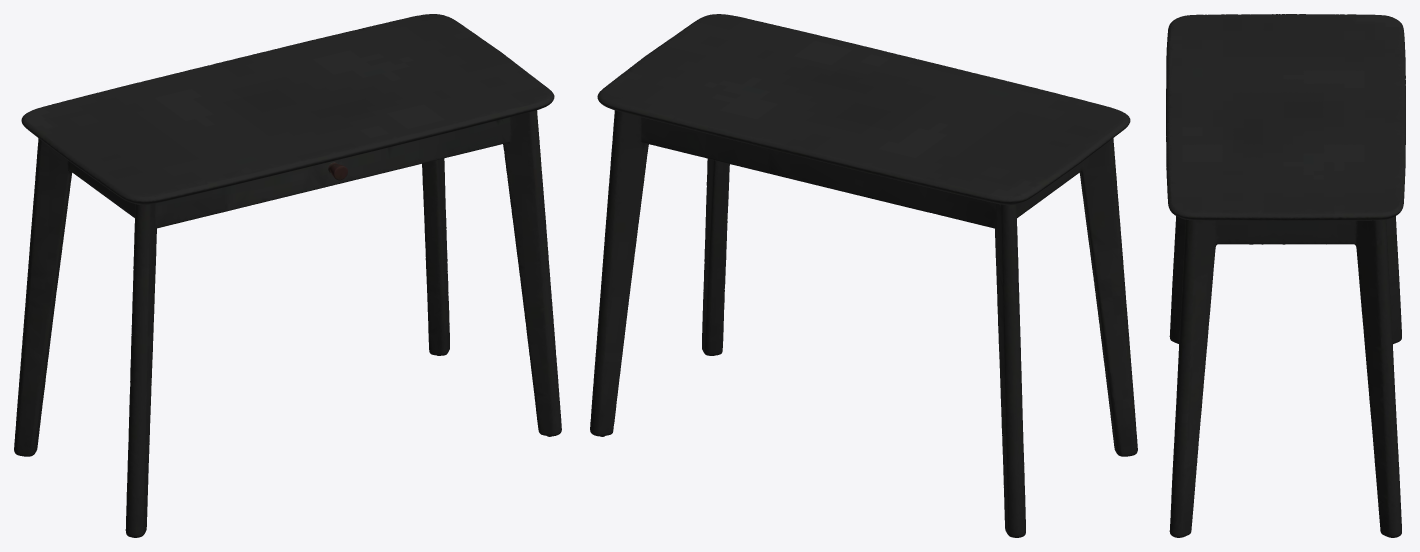
The model's file is hugge-100489-trellis2-q8-pbr.glb.
3 views of the same model, side by side, from view 1: azimuth 30°, elevation 25°; view 2: azimuth 150°, elevation 25°; view 3: azimuth 270°, elevation 25° (orthographic). The views are drawn at different scales.
Visible parts, largest first — view 1: 0; view 2: 0; view 3: 0.
Part boxes in pixels (bbox=[...]): 0: bbox=[14, 14, 561, 537]; 0: bbox=[590, 14, 1137, 537]; 0: bbox=[1166, 14, 1405, 537].
Size of the model in its own units: 1 by 0.75 by 0.5.
1 material, 1 textured.
